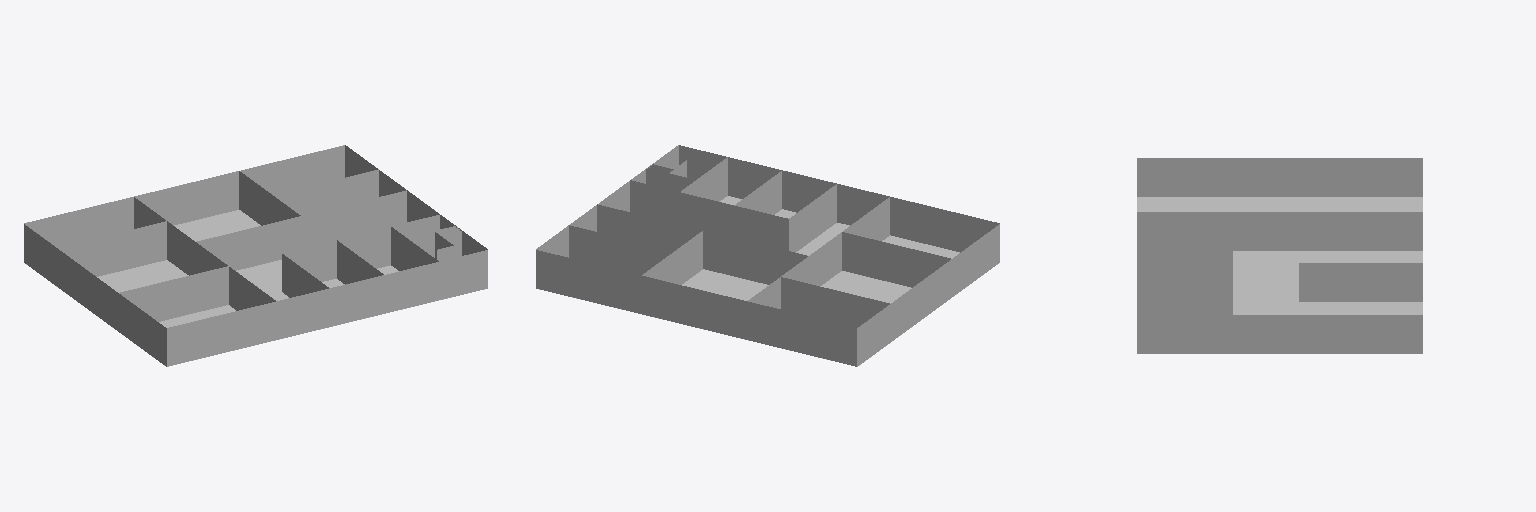
File: asylum.obj
3 views of the same model, side by side, from view 1: azimuth 30°, elevation 25°; view 2: azimuth 150°, elevation 25°; view 3: azimuth 270°, elevation 25° (orthographic).
Parts seen in each view (by area): view 1: map_outline_map_farmhouse_bleasdale_layer_middle_outline; view 2: map_outline_map_farmhouse_bleasdale_layer_middle_outline; view 3: map_outline_map_farmhouse_bleasdale_layer_middle_outline.
Part boxes in pixels (bbox=[...]): map_outline_map_farmhouse_bleasdale_layer_middle_outline: bbox=[24, 145, 487, 366]; map_outline_map_farmhouse_bleasdale_layer_middle_outline: bbox=[536, 145, 999, 366]; map_outline_map_farmhouse_bleasdale_layer_middle_outline: bbox=[1137, 158, 1422, 353].
Size of the model in its own units: 1.3 by 0.15 by 1.